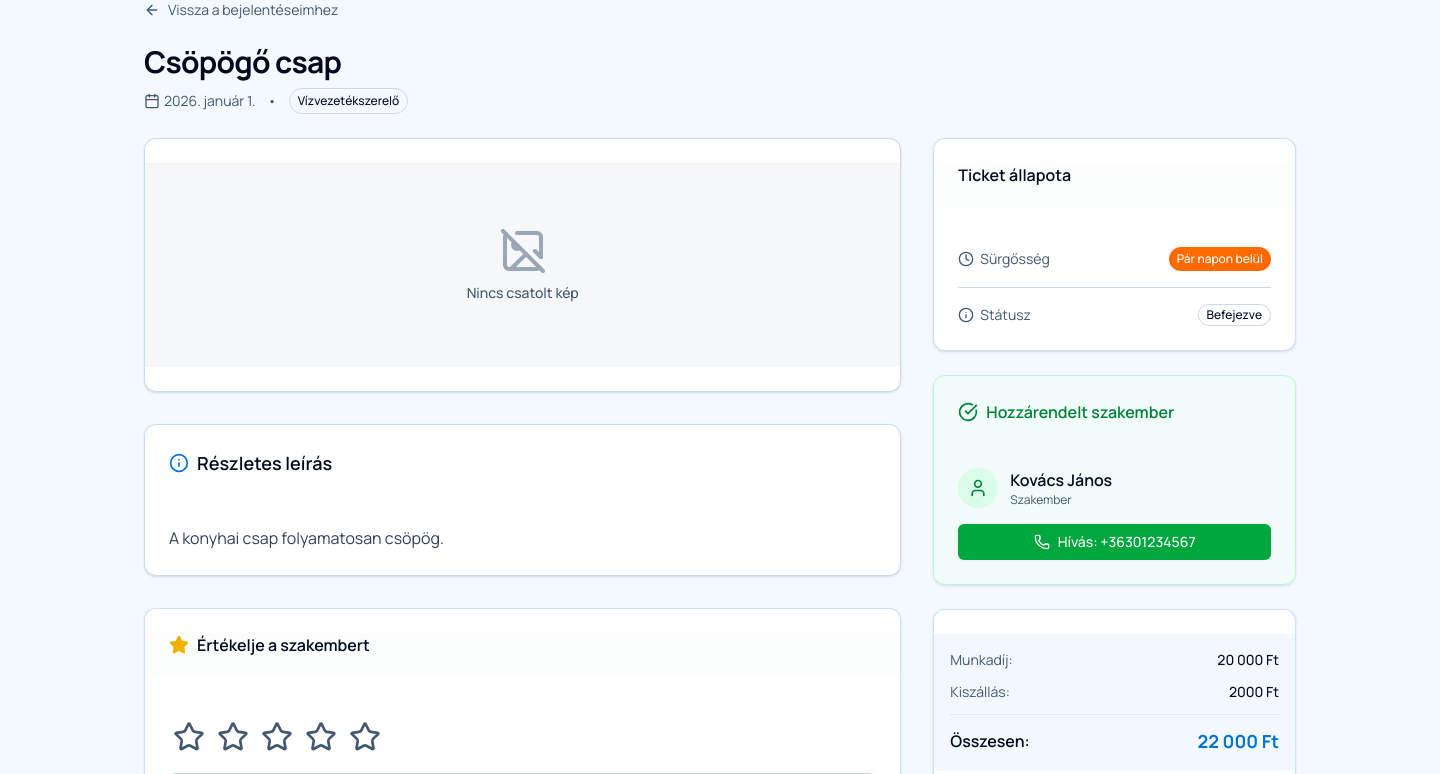
Test case: TicketDetailPage – review submission flow › submit button is enabled after selecting a star
The image size is (1440, 774).
Click the button named "3 csillag": (277, 737) [257,717,297,757]
(page scrolled)
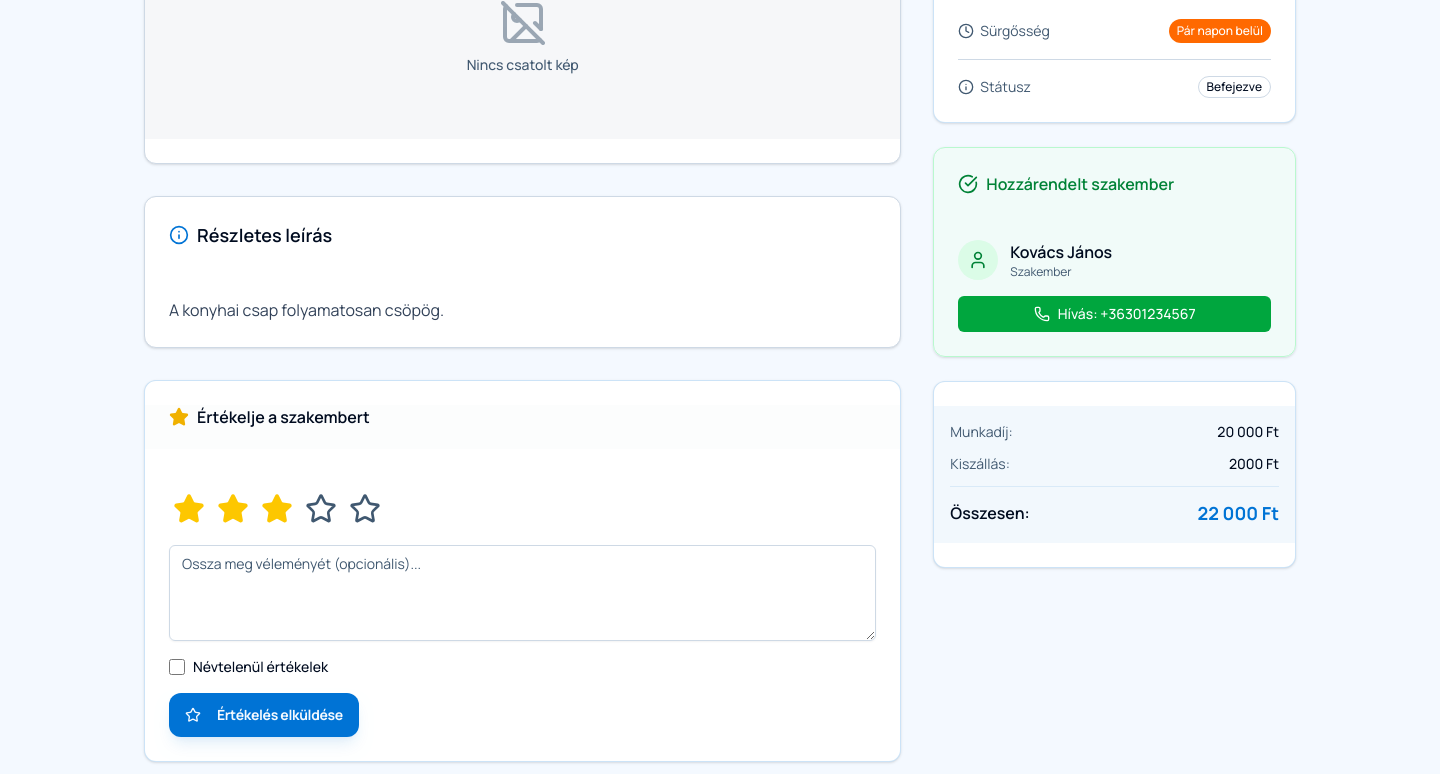
Expected: the button "Értékelés elküldése" is enabled, [169,693,359,737]
